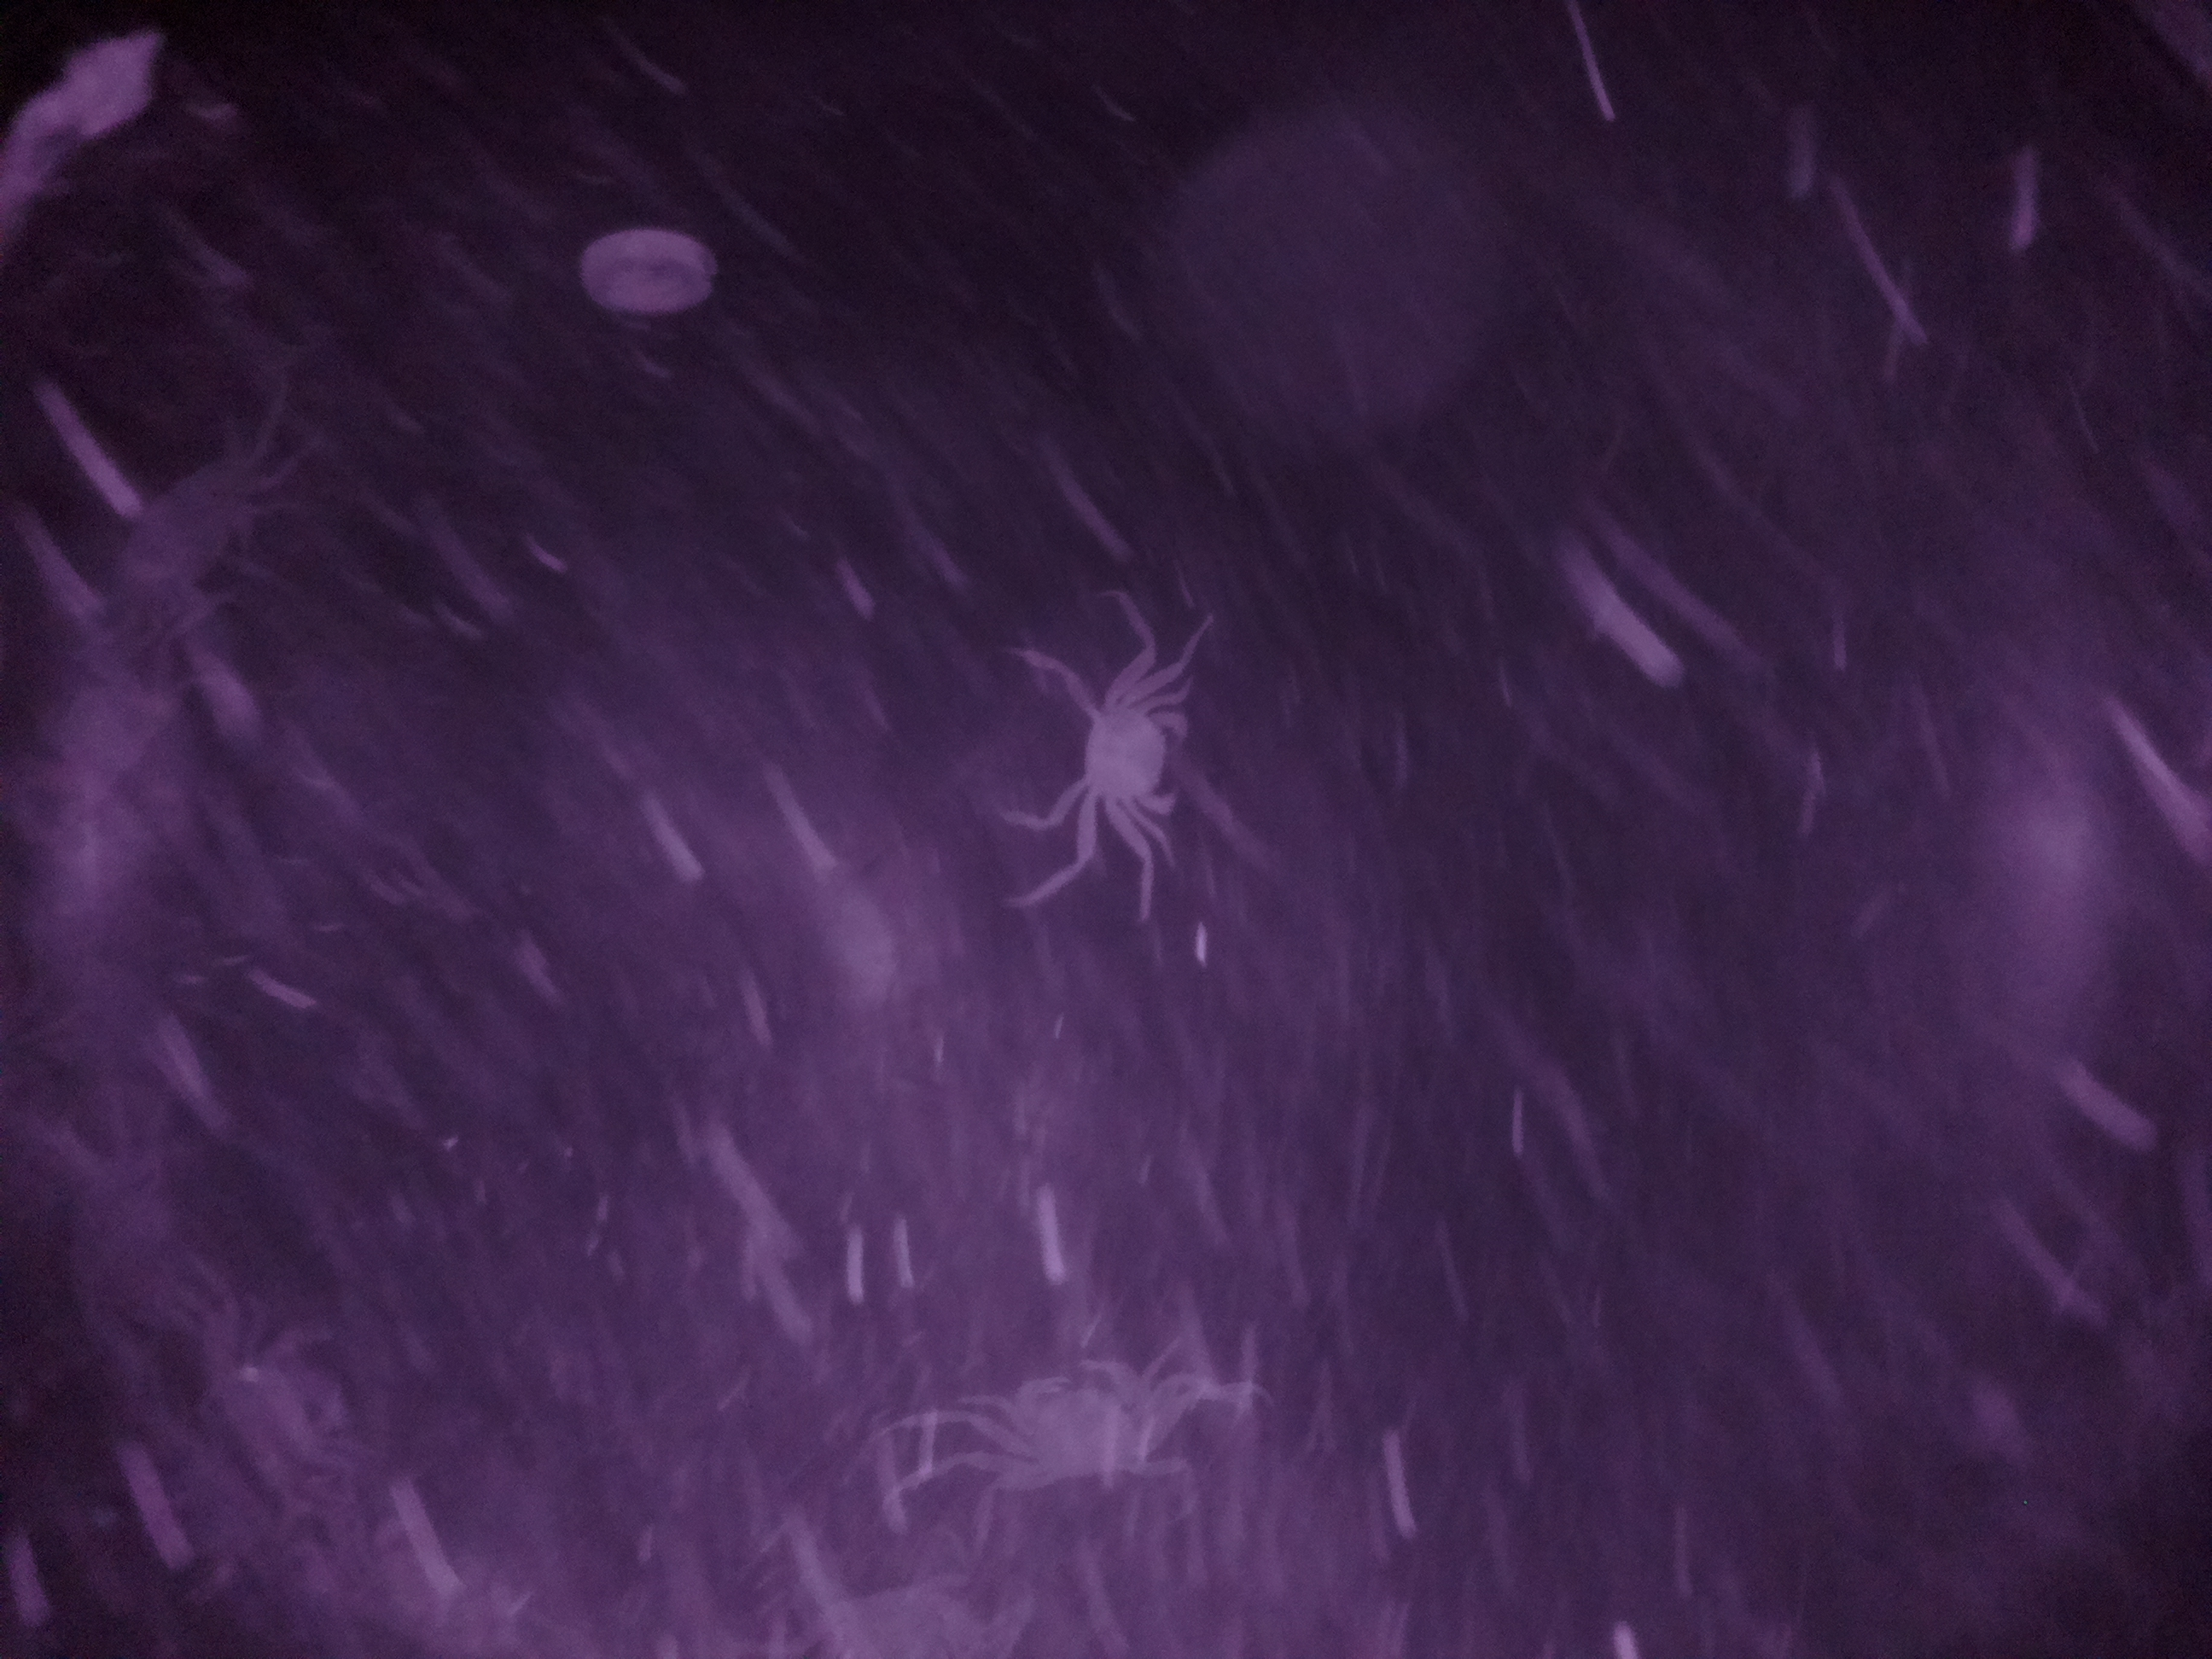Crab: (1031, 662, 1233, 857), (956, 1342, 1193, 1504)
